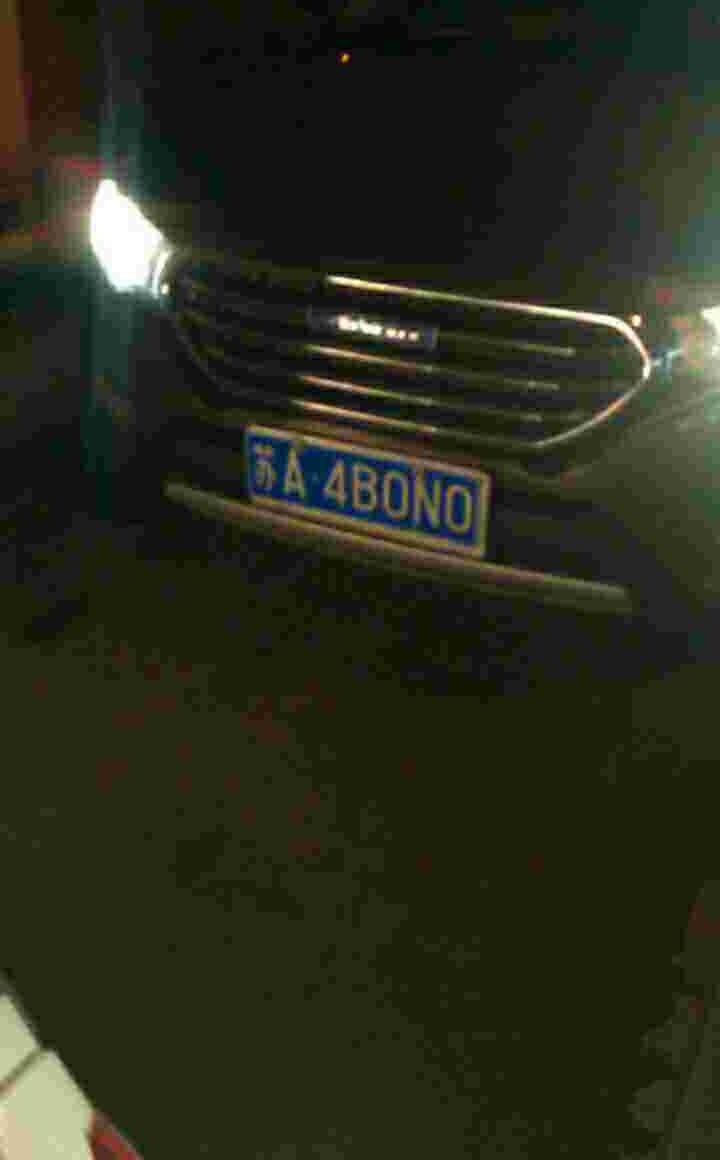license_plate: (243, 441, 498, 527)
